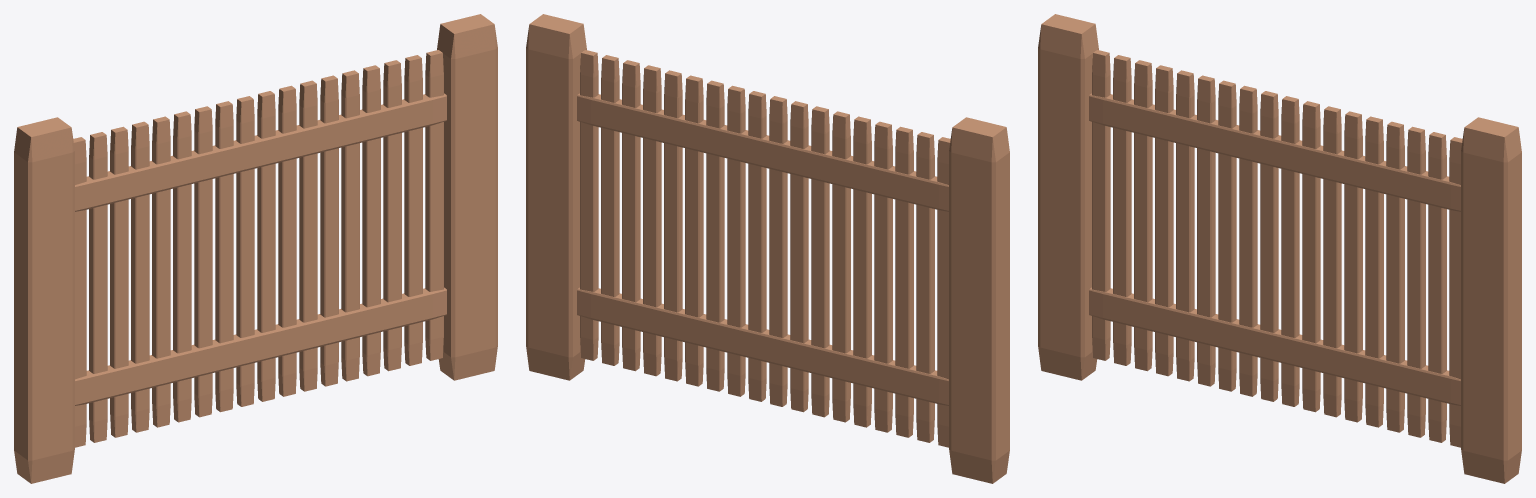
The model's file is b19_welded_mesh_security_fence.glb.
3 views of the same model, side by side, from view 1: azimuth 30°, elevation 25°; view 2: azimuth 150°, elevation 25°; view 3: azimuth 330°, elevation 25° (orthographic).
Parts seen in each view (by area): view 1: b19_welded_mesh_security_fence; view 2: b19_welded_mesh_security_fence; view 3: b19_welded_mesh_security_fence.
Boxes of the visible parts, box(x1,y1,x2,y2) form: b19_welded_mesh_security_fence: box(14, 14, 497, 483); b19_welded_mesh_security_fence: box(526, 14, 1009, 483); b19_welded_mesh_security_fence: box(1038, 14, 1521, 483).
Size of the model in its own units: 2.77 by 1.95 by 0.165.
